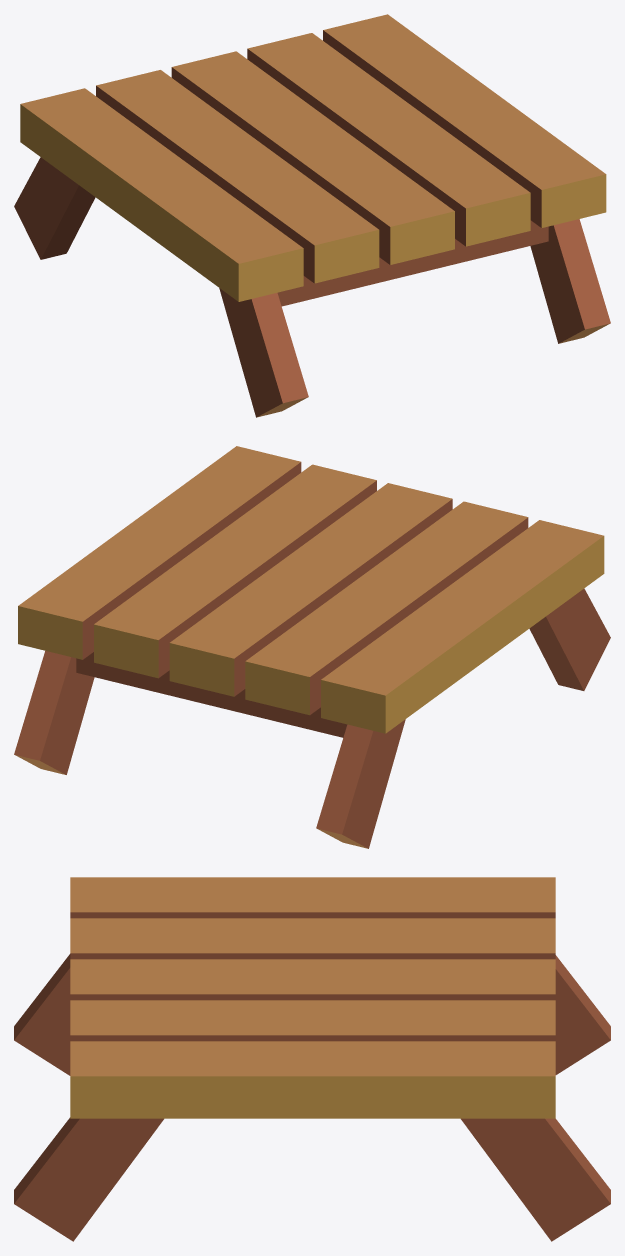
Rendered from WoodBridge.fbx.
The picture shows the model from 3 angles, top to bottom: view 1: azimuth 30°, elevation 25°; view 2: azimuth 150°, elevation 25°; view 3: azimuth 270°, elevation 25°; orthographic projection. The views are drawn at different scales.
Visible parts, largest first — view 1: Bridge; view 2: Bridge; view 3: Bridge.
Boxes of the visible parts, x1,y1,x2,y2 form: Bridge: [14, 14, 610, 417]; Bridge: [14, 446, 610, 848]; Bridge: [14, 877, 610, 1241].
Bounding box in the file's own units: 0.9709 × 1.23 × 0.402.
